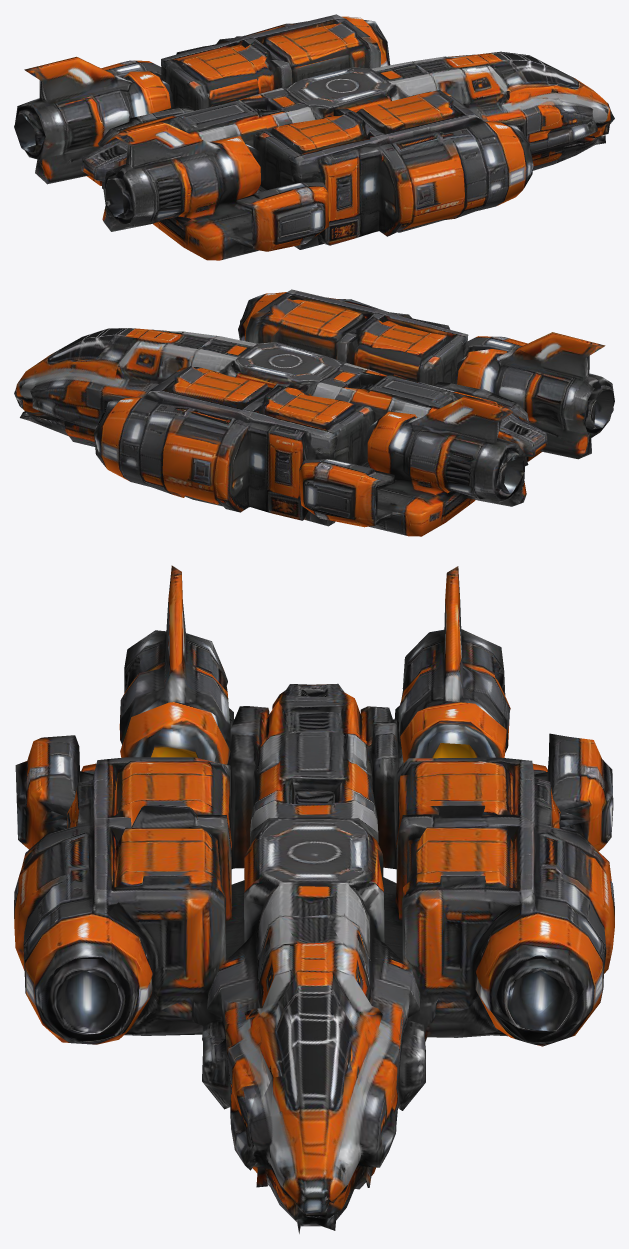
Rendered from wayfarer.glb.
3 views of the same model, one above another, from view 1: azimuth 30°, elevation 25°; view 2: azimuth 150°, elevation 25°; view 3: azimuth 270°, elevation 25° (orthographic). The views are drawn at different scales.
Visible parts, largest first — view 1: tripo_node_e6e56bba-f139-4763-910e-696fea13da8b; view 2: tripo_node_e6e56bba-f139-4763-910e-696fea13da8b; view 3: tripo_node_e6e56bba-f139-4763-910e-696fea13da8b.
Boxes of the visible parts, <box> form: tripo_node_e6e56bba-f139-4763-910e-696fea13da8b: <box>14,14,614,260</box>; tripo_node_e6e56bba-f139-4763-910e-696fea13da8b: <box>14,289,614,536</box>; tripo_node_e6e56bba-f139-4763-910e-696fea13da8b: <box>14,565,614,1233</box>.
Bounding box in the file's own units: 0.9847 × 0.2904 × 0.6002.
1 material, 1 textured.
